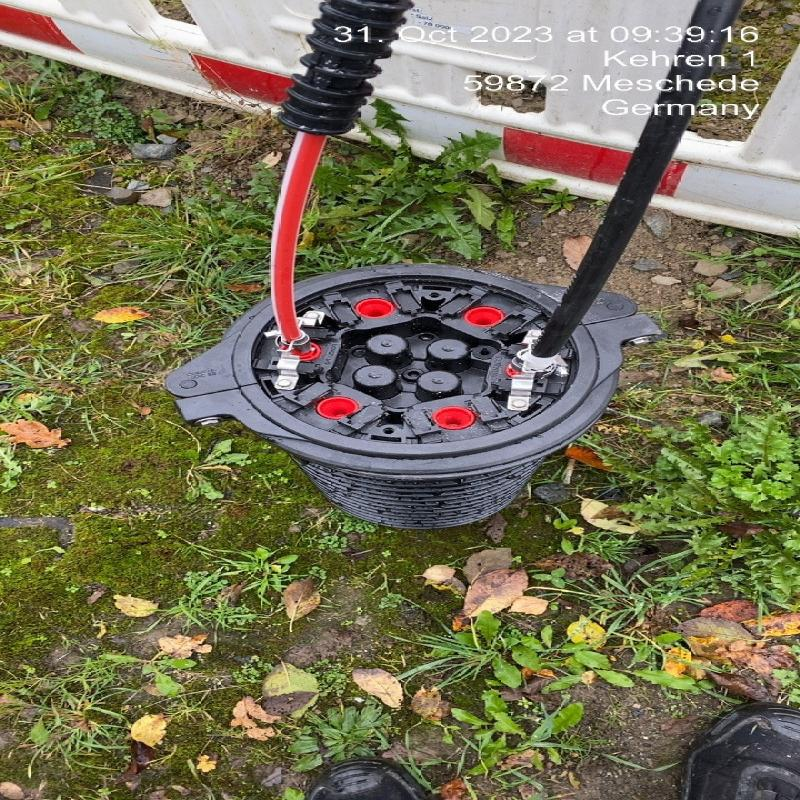NT-Muffen: (161, 251, 669, 529)
